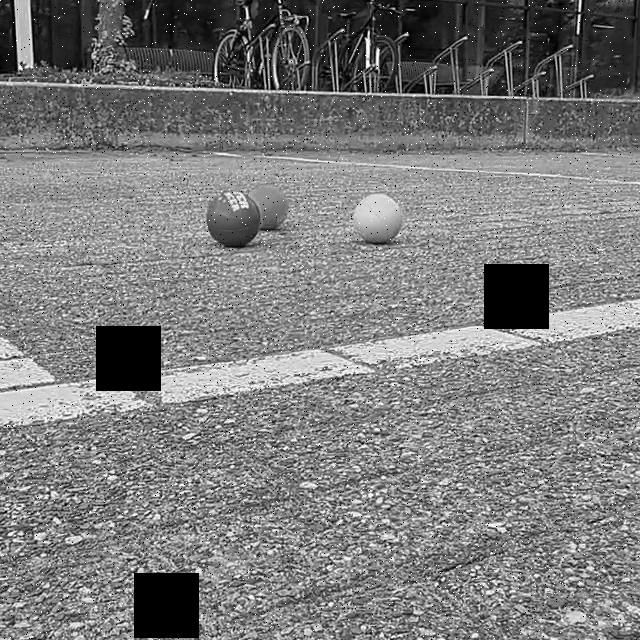ball: (206, 189, 262, 251), (352, 192, 406, 246), (250, 184, 293, 234)
